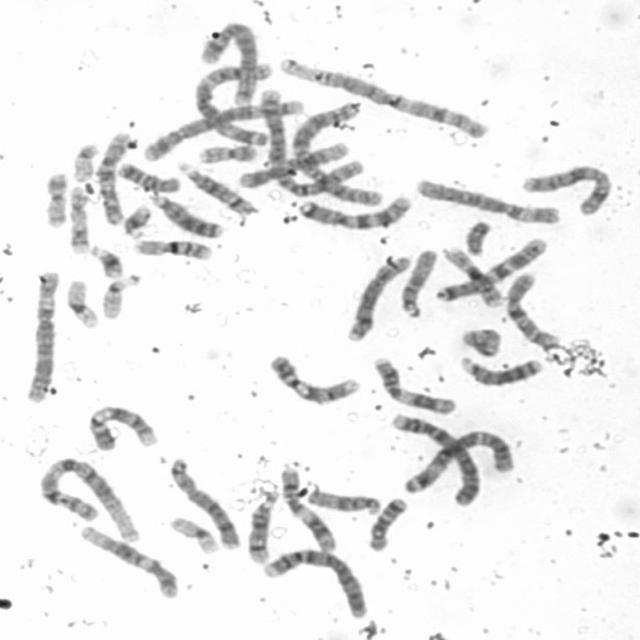A1: (274, 52, 494, 140), (33, 451, 143, 544)
A2: (260, 89, 368, 197), (284, 98, 385, 209)
A3: (398, 424, 519, 494), (189, 59, 274, 147)
B4: (385, 407, 484, 508), (257, 543, 371, 620)
B5: (136, 93, 305, 163), (198, 22, 252, 108)
C10: (499, 267, 564, 351), (94, 127, 134, 226)
C11: (366, 352, 461, 416), (276, 461, 341, 554)
C12: (75, 520, 184, 600), (231, 137, 352, 190)
C6: (410, 173, 565, 226), (17, 264, 62, 405)
C7: (432, 234, 551, 304), (294, 190, 414, 231)
C8: (164, 452, 243, 551), (341, 250, 414, 344)
C9: (263, 349, 364, 406), (84, 400, 162, 452)
D13: (144, 188, 226, 239), (455, 351, 547, 388)
D14: (173, 157, 260, 217), (243, 484, 282, 565)
D15: (396, 244, 440, 319), (302, 484, 384, 516)
E16: (438, 242, 506, 308), (129, 234, 216, 262)
E17: (63, 180, 93, 256), (456, 326, 504, 361)
E18: (363, 492, 410, 552), (112, 158, 182, 194)
F19: (164, 511, 222, 555), (61, 273, 102, 330)
F20: (39, 167, 70, 229), (192, 138, 258, 164)
G21: (86, 239, 126, 280), (118, 200, 154, 240)
G22: (98, 269, 144, 321), (68, 139, 102, 183)
X: (518, 160, 615, 217)
Y: (461, 215, 494, 257)
